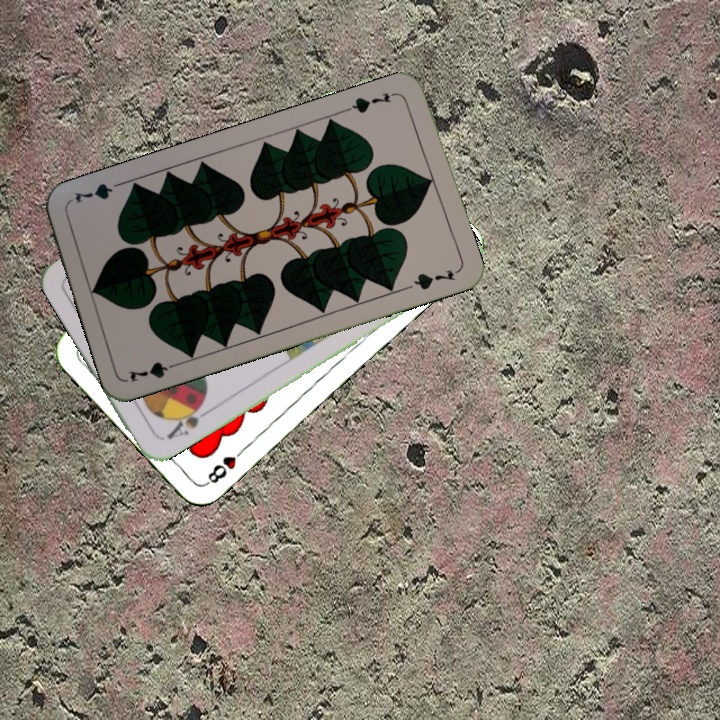G7: (343, 88, 400, 116), (125, 357, 183, 384)
H8: (201, 443, 249, 488)
SA: (162, 398, 212, 442)
